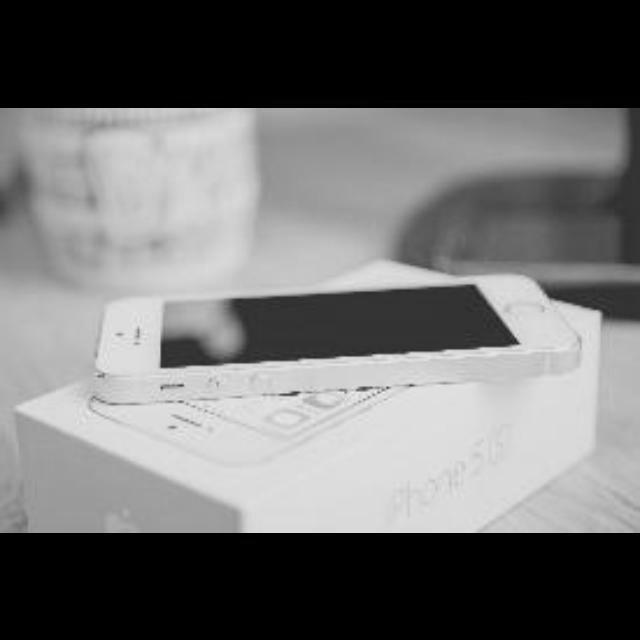fake: (78, 265, 595, 414)
